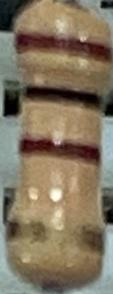Black: (21, 86, 104, 115)
Brown: (14, 28, 112, 64), (21, 135, 98, 167)
Side-Gold: (7, 218, 101, 256)
